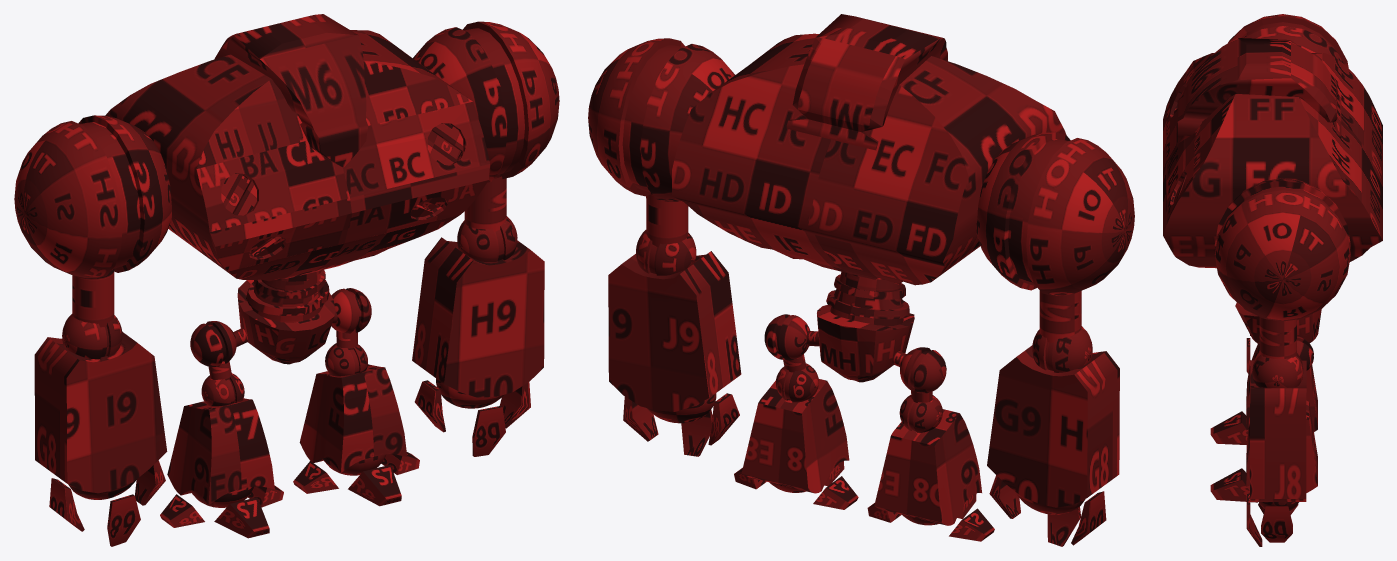
Rendered from uv disaster (2).fbx.
3 renders of one model, left to right at view 1: azimuth 30°, elevation 25°; view 2: azimuth 150°, elevation 25°; view 3: azimuth 270°, elevation 25°, orthographic. The views are drawn at different scales.
Parts seen in each view (by area): view 1: UpperTorso, R_Shoulder, R_Forearm2, R_Forearm, R_Shoulder2, Head, R_Calf, R_Calf2, Pelvis, Abs, R_Elbow, R_Bicep (+17 smaller); view 2: UpperTorso, R_Shoulder, R_Forearm2, R_Forearm, R_Shoulder2, Head, R_Calf, R_Calf2, Pelvis, Abs, R_Elbow, R_Elbow2 (+15 smaller); view 3: UpperTorso, R_Shoulder2, Head, R_Forearm2, R_Shoulder, R_Elbow2, R_Bicep2, R_Calf2, Pelvis, R_RightFinger2, R_FrontToe2, R_FrontToe (+3 smaller).
Boxes of the visible parts, bbox=[...] form: UpperTorso: bbox=[105, 30, 489, 281]; R_Shoulder: bbox=[14, 115, 171, 278]; R_Forearm2: bbox=[412, 237, 544, 397]; R_Forearm: bbox=[34, 332, 167, 493]; R_Shoulder2: bbox=[413, 21, 559, 182]; Head: bbox=[214, 14, 368, 167]; R_Calf: bbox=[167, 398, 274, 505]; R_Calf2: bbox=[299, 364, 407, 472]; Pelvis: bbox=[237, 280, 334, 364]; Abs: bbox=[246, 260, 329, 322]; R_Elbow: bbox=[62, 314, 122, 359]; R_Bicep: bbox=[72, 268, 114, 327]; UpperTorso: bbox=[672, 33, 1066, 285]; R_Shoulder: bbox=[976, 132, 1134, 295]; R_Forearm2: bbox=[608, 251, 741, 411]; R_Forearm: bbox=[987, 345, 1119, 507]; R_Shoulder2: bbox=[588, 38, 734, 201]; Head: bbox=[786, 14, 947, 150]; R_Calf: bbox=[874, 409, 981, 525]; R_Calf2: bbox=[741, 379, 849, 493]; Pelvis: bbox=[817, 305, 914, 382]; Abs: bbox=[826, 271, 909, 325]; R_Elbow: bbox=[1032, 326, 1092, 372]; R_Elbow2: bbox=[636, 230, 696, 275]; UpperTorso: bbox=[1163, 53, 1382, 268]; R_Shoulder2: bbox=[1214, 178, 1350, 321]; Head: bbox=[1177, 38, 1341, 142]; R_Forearm2: bbox=[1250, 360, 1306, 501]; R_Shoulder: bbox=[1227, 14, 1348, 67]; R_Elbow2: bbox=[1252, 352, 1303, 387]; R_Bicep2: bbox=[1259, 317, 1296, 359]; R_Calf2: bbox=[1246, 400, 1317, 492]; Pelvis: bbox=[1235, 302, 1321, 344]; R_RightFinger2: bbox=[1261, 506, 1292, 542]; R_FrontToe2: bbox=[1210, 468, 1257, 502]; R_FrontToe: bbox=[1210, 411, 1248, 444].
Bounding box in the file's own units: 4.66 × 3.99 × 1.93.
Materials: 1 (1 with a texture image).
